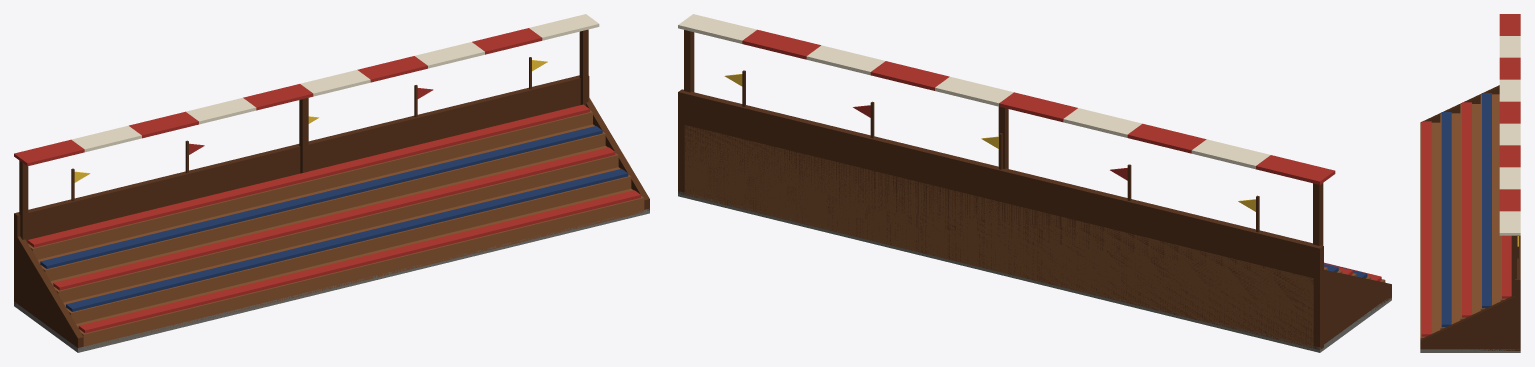
The model's file is stands-5x1.glb.
3 views of the same model, side by side, from view 1: azimuth 30°, elevation 25°; view 2: azimuth 150°, elevation 25°; view 3: azimuth 270°, elevation 25° (orthographic). The views are drawn at different scales.
Visible parts, largest first — view 1: Stands5x1; view 2: Stands5x1; view 3: Stands5x1.
Boxes of the visible parts, left/top/right/bottom form: Stands5x1: left=14, top=14, right=649, bottom=352; Stands5x1: left=678, top=14, right=1391, bottom=352; Stands5x1: left=1420, top=14, right=1520, bottom=352.
Size of the model in its own units: 4.96 by 1.26 by 0.96.
1 material, 1 textured.
